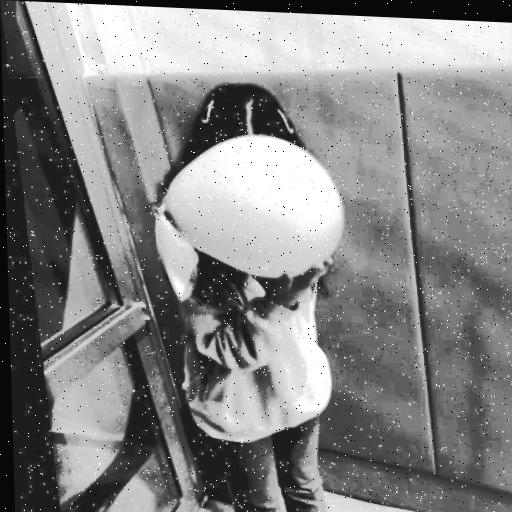balloon: (149, 130, 349, 280)
